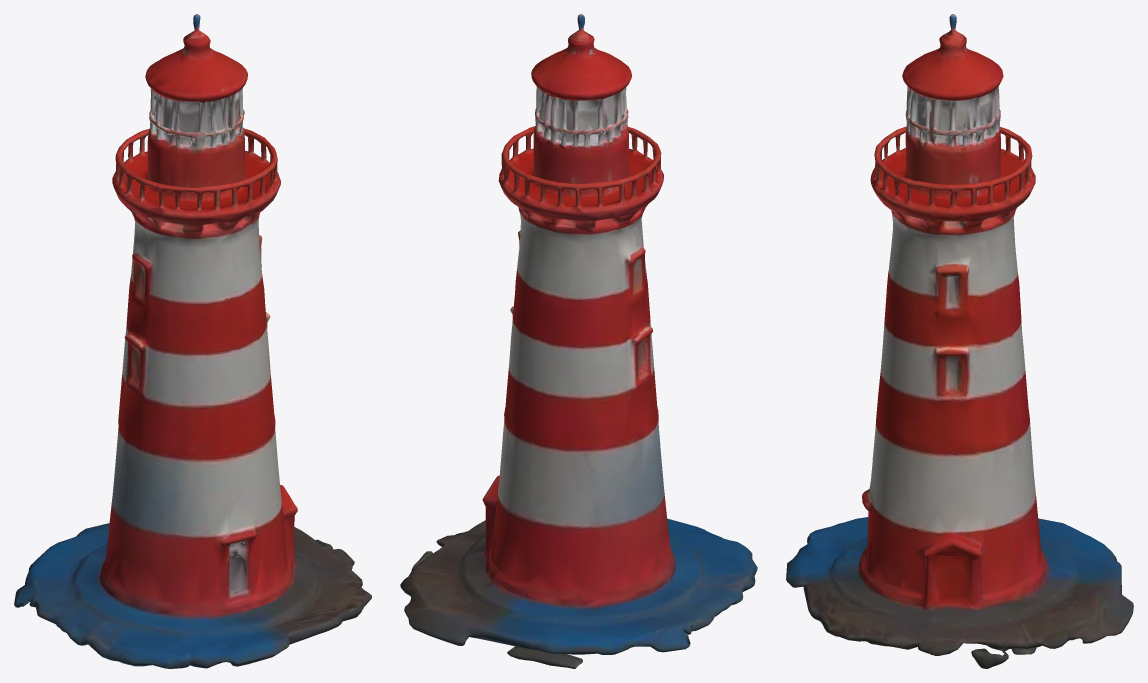
File: lighthouse.glb
3 renders of one model, left to right at view 1: azimuth 30°, elevation 25°; view 2: azimuth 150°, elevation 25°; view 3: azimuth 270°, elevation 25°, orthographic.
Parts seen in each view (by area): view 1: tripo_node_62cc50ec-144b-4411-9864-3074133c5346; view 2: tripo_node_62cc50ec-144b-4411-9864-3074133c5346; view 3: tripo_node_62cc50ec-144b-4411-9864-3074133c5346.
Part boxes in pixels (bbox=[...]): tripo_node_62cc50ec-144b-4411-9864-3074133c5346: bbox=[14, 14, 371, 668]; tripo_node_62cc50ec-144b-4411-9864-3074133c5346: bbox=[400, 14, 757, 668]; tripo_node_62cc50ec-144b-4411-9864-3074133c5346: bbox=[786, 14, 1133, 668].
Bounding box in the file's own units: 0.4603 × 0.9451 × 0.4775.
1 material, 1 textured.
